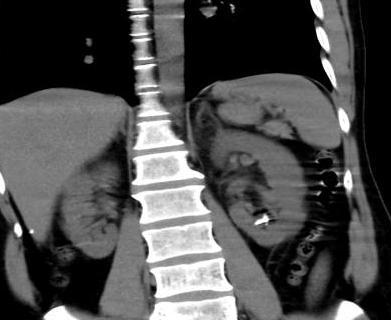Tas_Var: (254, 216, 270, 226), (263, 223, 269, 226)
